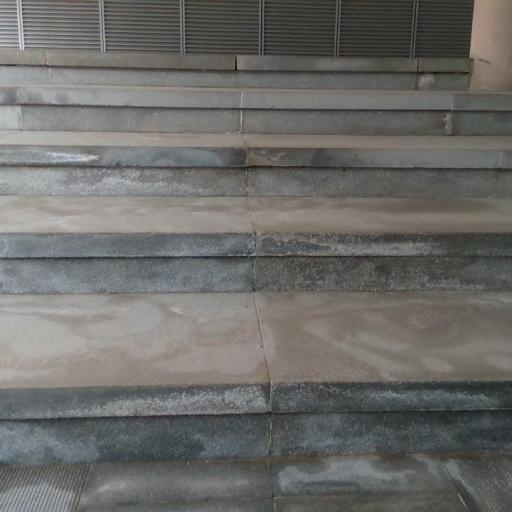stairs: (0, 67, 511, 463)
